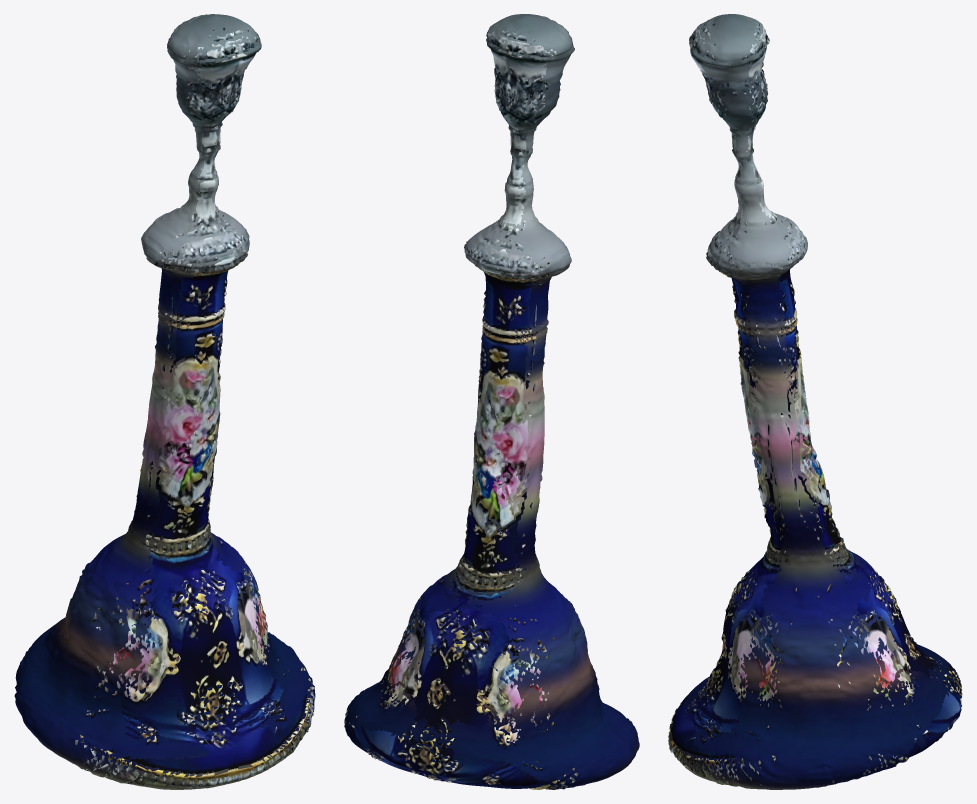
The model's file is kfl-2153.glb.
3 renders of one model, left to right at view 1: azimuth 30°, elevation 25°; view 2: azimuth 150°, elevation 25°; view 3: azimuth 270°, elevation 25°, orthographic. The views are drawn at different scales.
Visible parts, largest first — view 1: kfl-2153; view 2: kfl-2153; view 3: kfl-2153.
Boxes of the visible parts, x1,y1,x2,y2 form: kfl-2153: (14,14,315,789); kfl-2153: (344,14,639,789); kfl-2153: (668,14,962,789).
Size of the model in its own units: 0.3655 by 0.9975 by 0.3598.
Materials: 4 (4 with a texture image).
